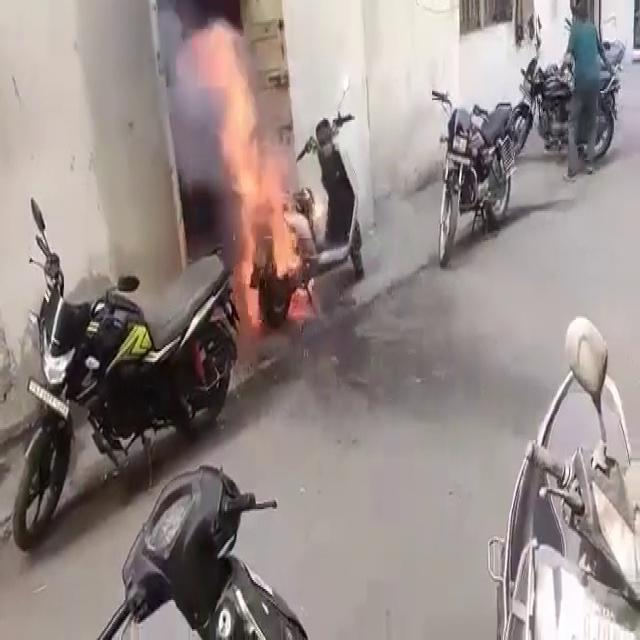Fire: (200, 24, 304, 332)
